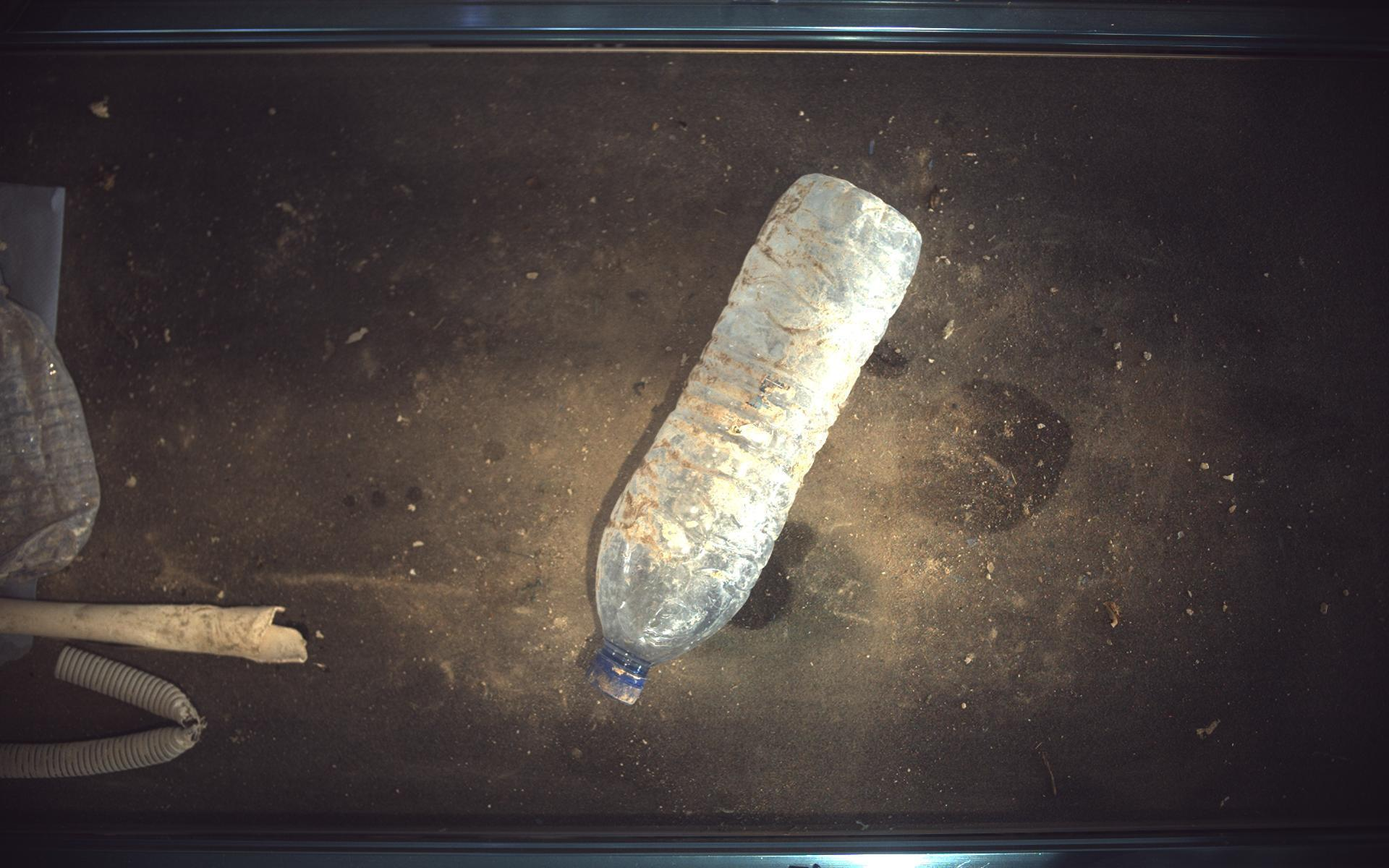general_w: (588, 173, 923, 705), (1, 287, 98, 595)
pipes: (1, 646, 205, 780), (1, 600, 306, 664)
